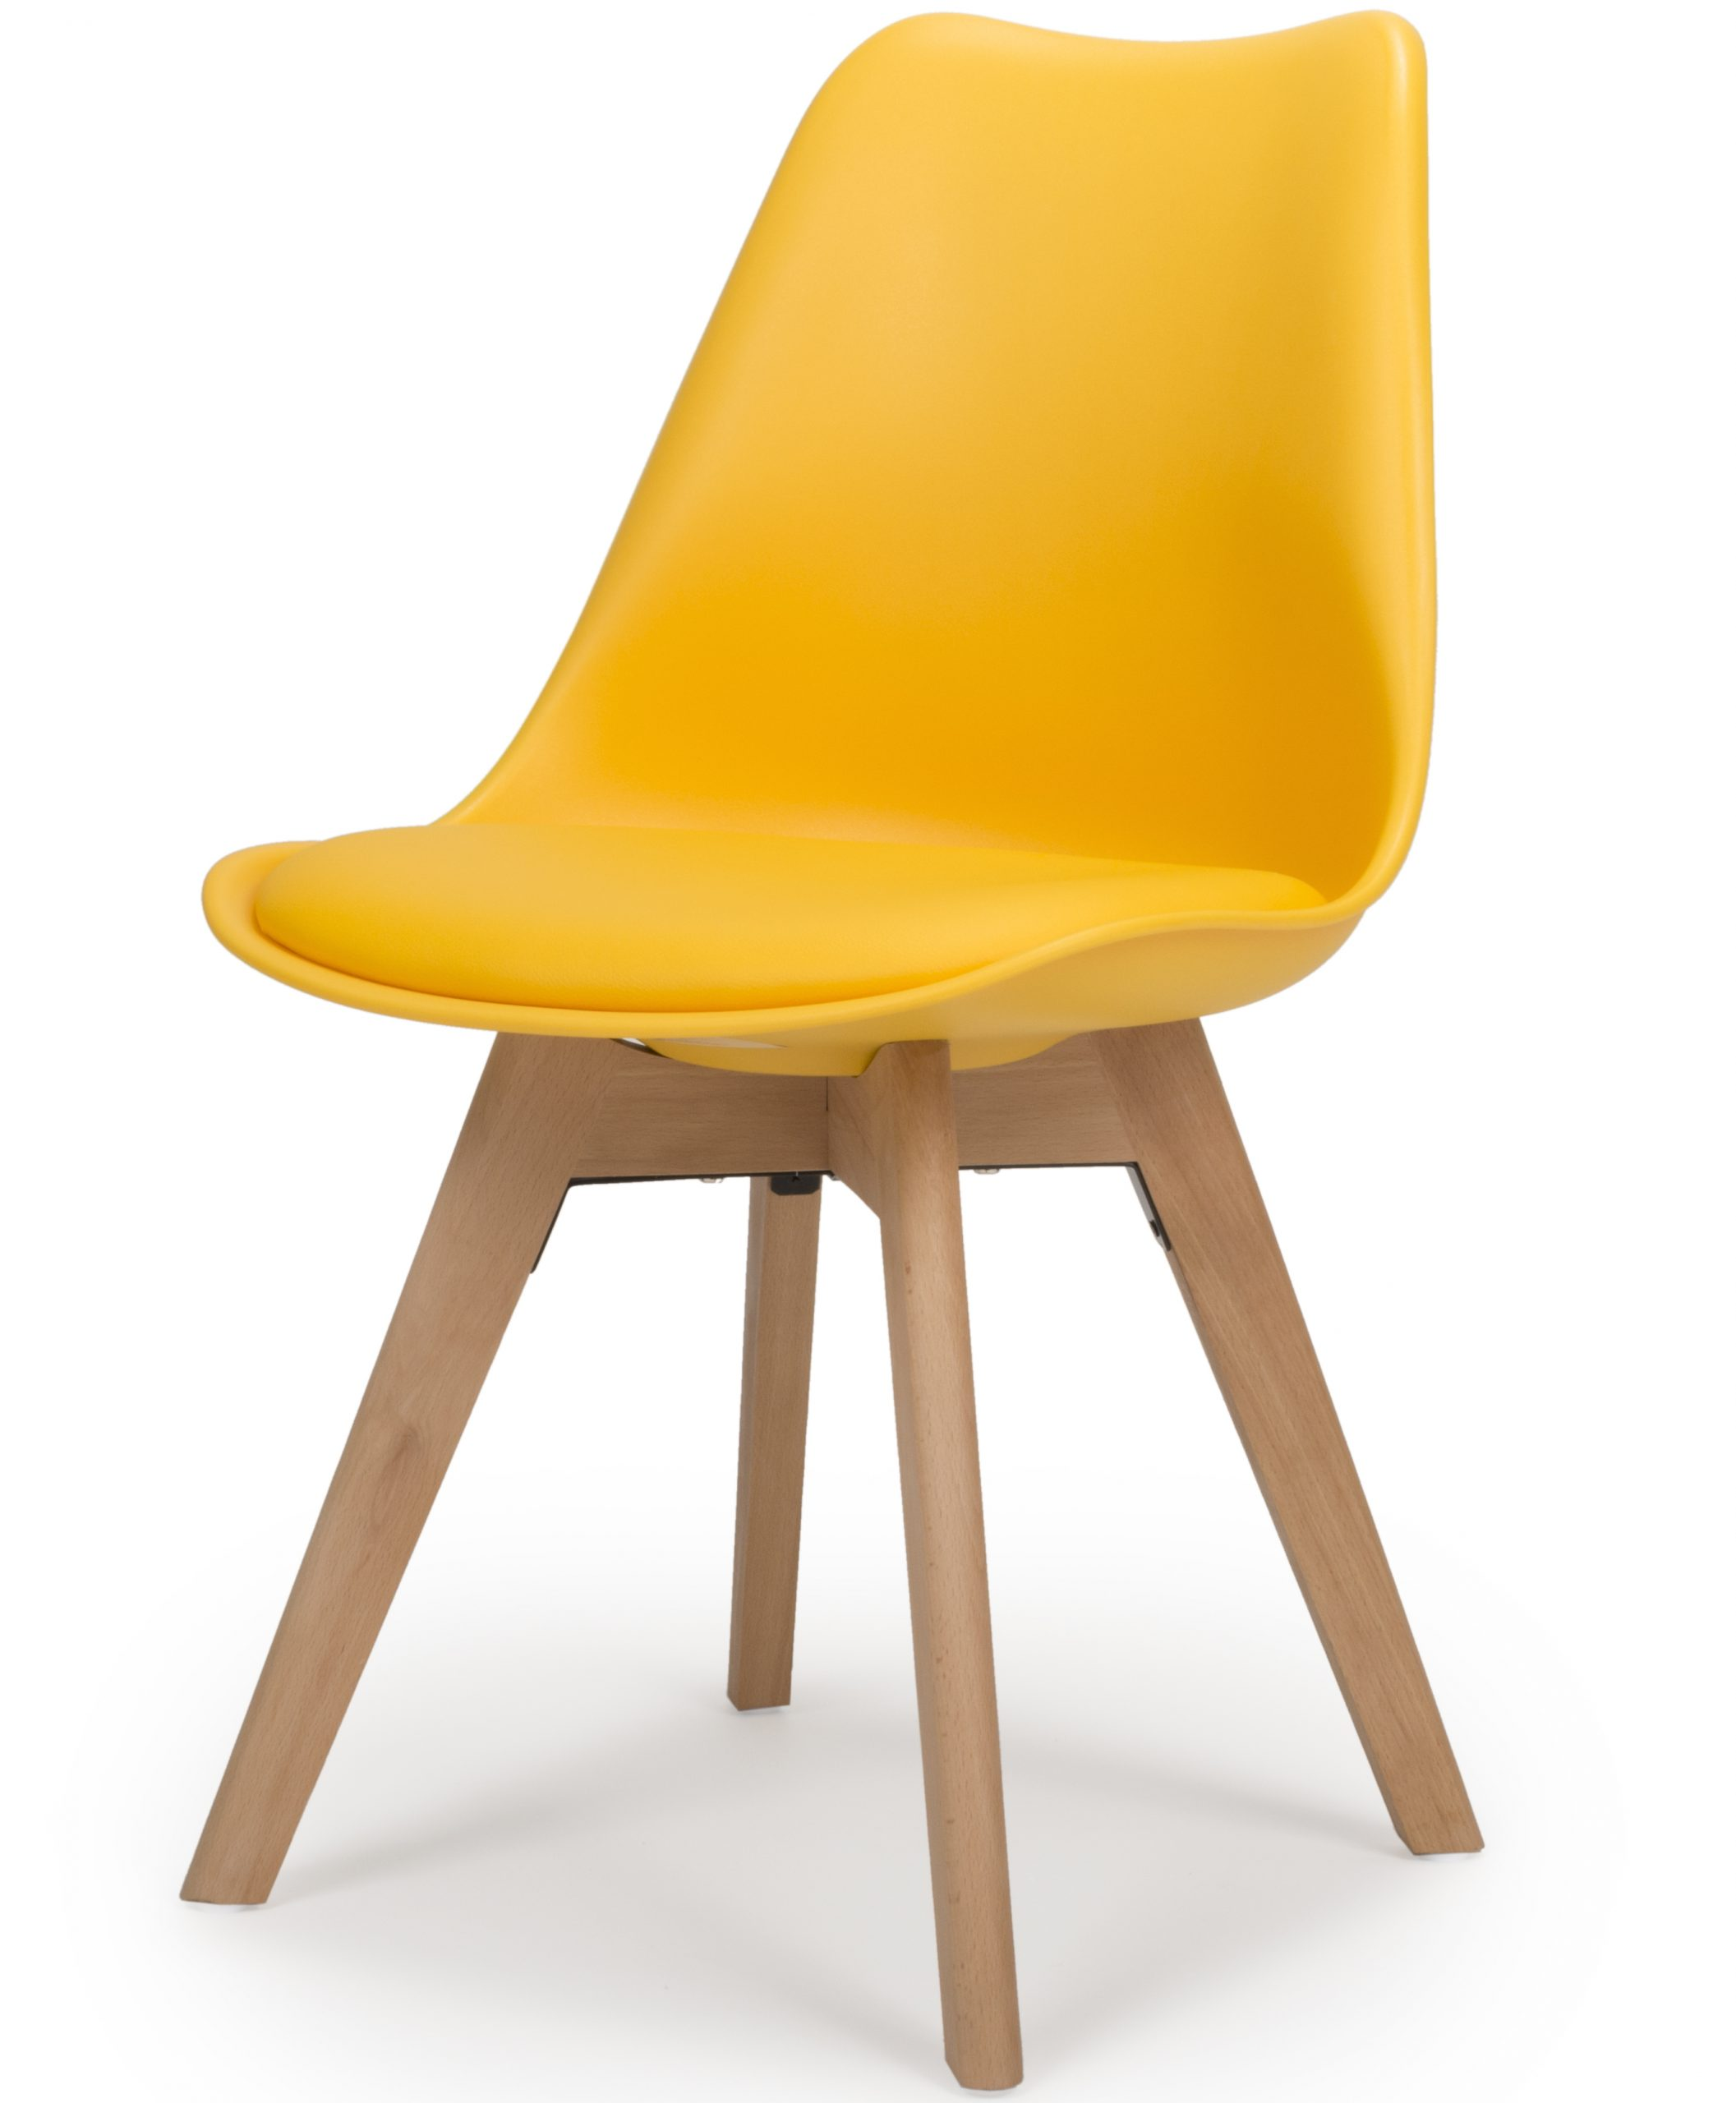kursi: (176, 0, 1490, 2052)
